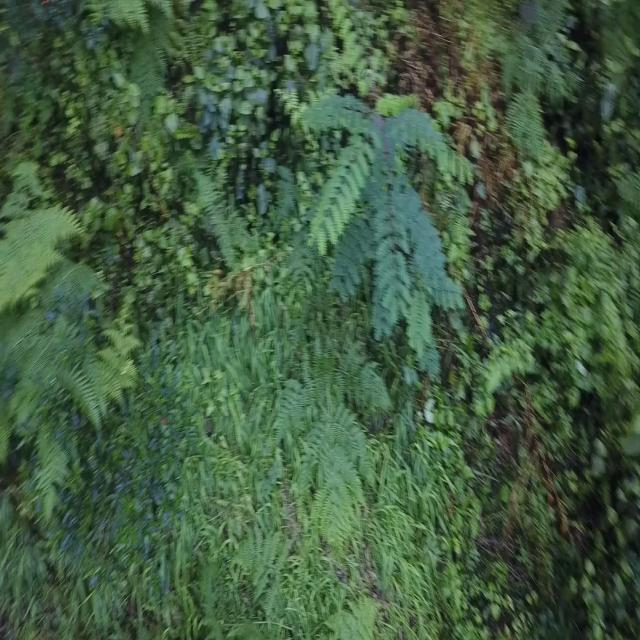Mysore-Thorn-Weed: (297, 55, 465, 410)
